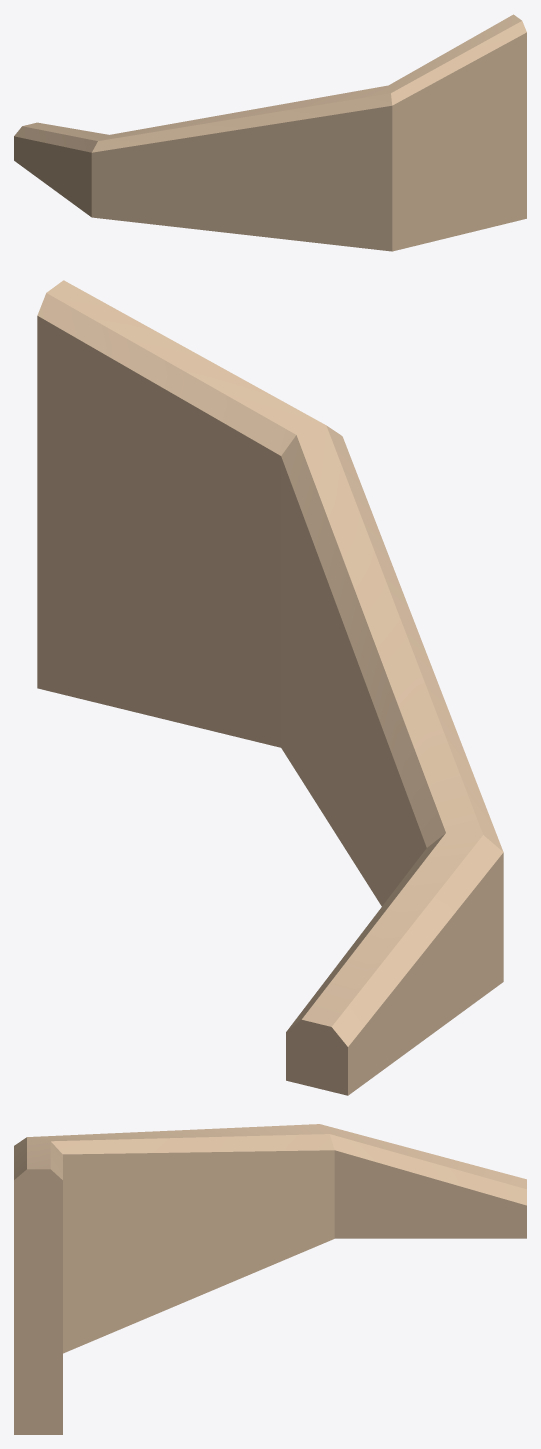
Rendered from Stairs_Coping_Ramp_Curved_Large.obj.
The picture shows the model from 3 angles, top to bottom: view 1: azimuth 30°, elevation 25°; view 2: azimuth 150°, elevation 25°; view 3: azimuth 270°, elevation 25°; orthographic projection. The views are drawn at different scales.
Visible parts, largest first — view 1: object1; view 2: object1; view 3: object1.
Boxes of the visible parts, x1=… form: object1: x1=14, y1=14, x2=526, y2=251; object1: x1=37, y1=280, x2=503, y2=1095; object1: x1=14, y1=1124, x2=526, y2=1434.
Bounding box in the file's own units: 2.1 × 1.2 × 2.1.
